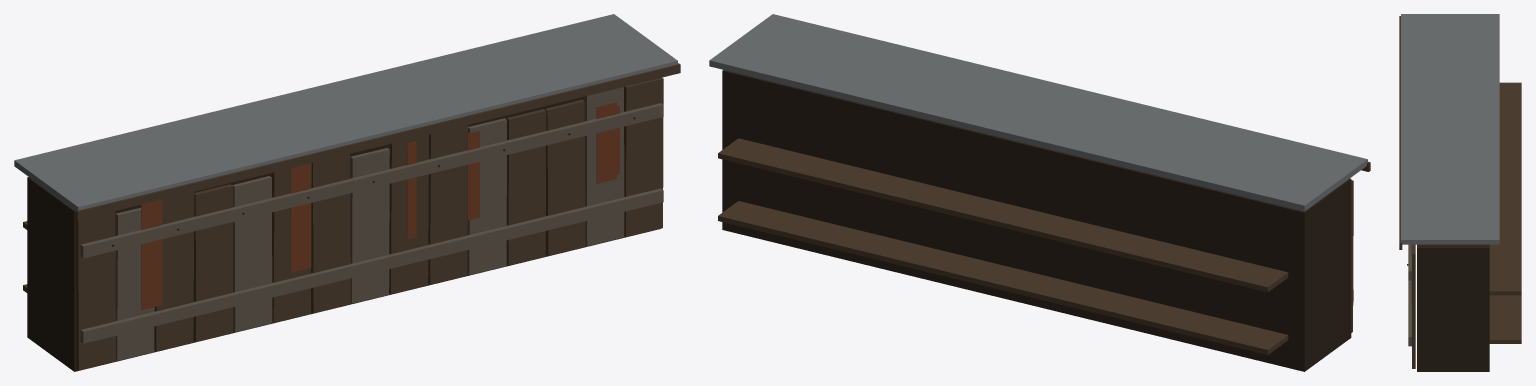
File: stand-counter.glb
3 views of the same model, side by side, from view 1: azimuth 30°, elevation 25°; view 2: azimuth 150°, elevation 25°; view 3: azimuth 270°, elevation 25° (orthographic). The views are drawn at different scales.
Visible parts, largest first — view 1: woodOld, tin, woodGrey, woodNight, rust; view 2: woodNight, tin, woodOld; view 3: tin, woodNight, woodOld, woodGrey.
Part boxes in pixels (left/top/right/bottom): woodOld: left=23, top=63, right=680, bottom=370; tin: left=14, top=14, right=677, bottom=210; woodGrey: left=80, top=87, right=663, bottom=360; woodNight: left=27, top=96, right=660, bottom=371; rust: left=141, top=102, right=619, bottom=309; woodNight: left=722, top=70, right=1351, bottom=371; tin: left=709, top=14, right=1367, bottom=211; woodOld: left=718, top=138, right=1370, bottom=354; tin: left=1401, top=14, right=1499, bottom=244; woodNight: left=1417, top=244, right=1489, bottom=371; woodOld: left=1399, top=16, right=1521, bottom=368; woodGrey: left=1408, top=244, right=1411, bottom=346.
Size of the model in its own units: 3.7 by 1.02 by 0.84.
